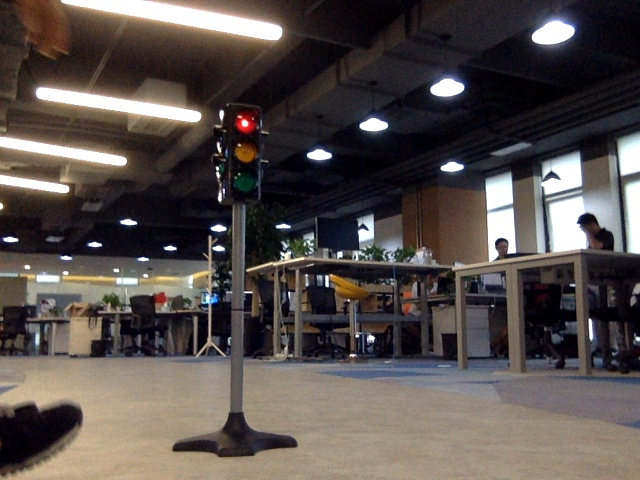red: (230, 109, 255, 192)
